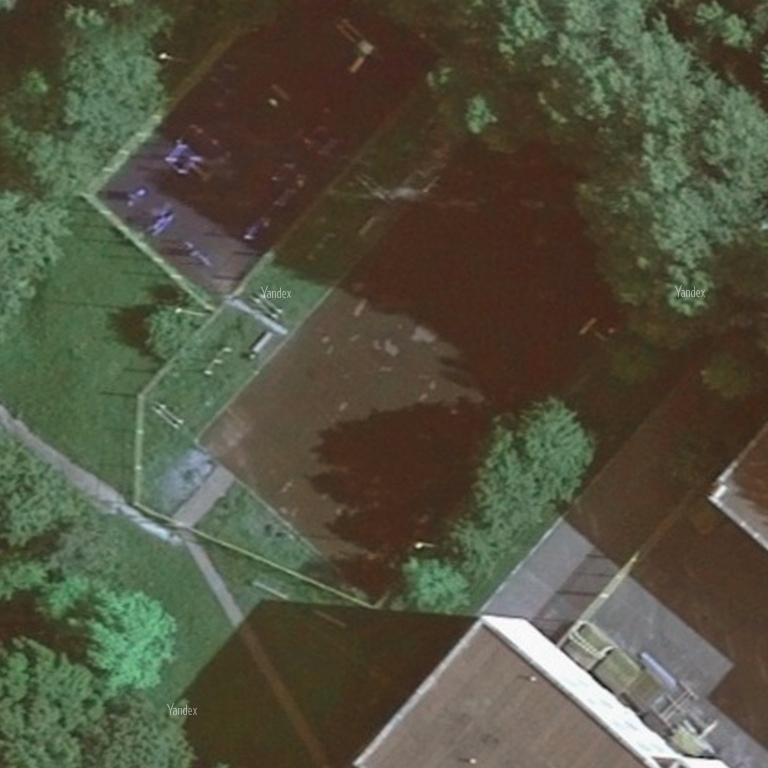basket_court: (359, 161, 666, 408)
